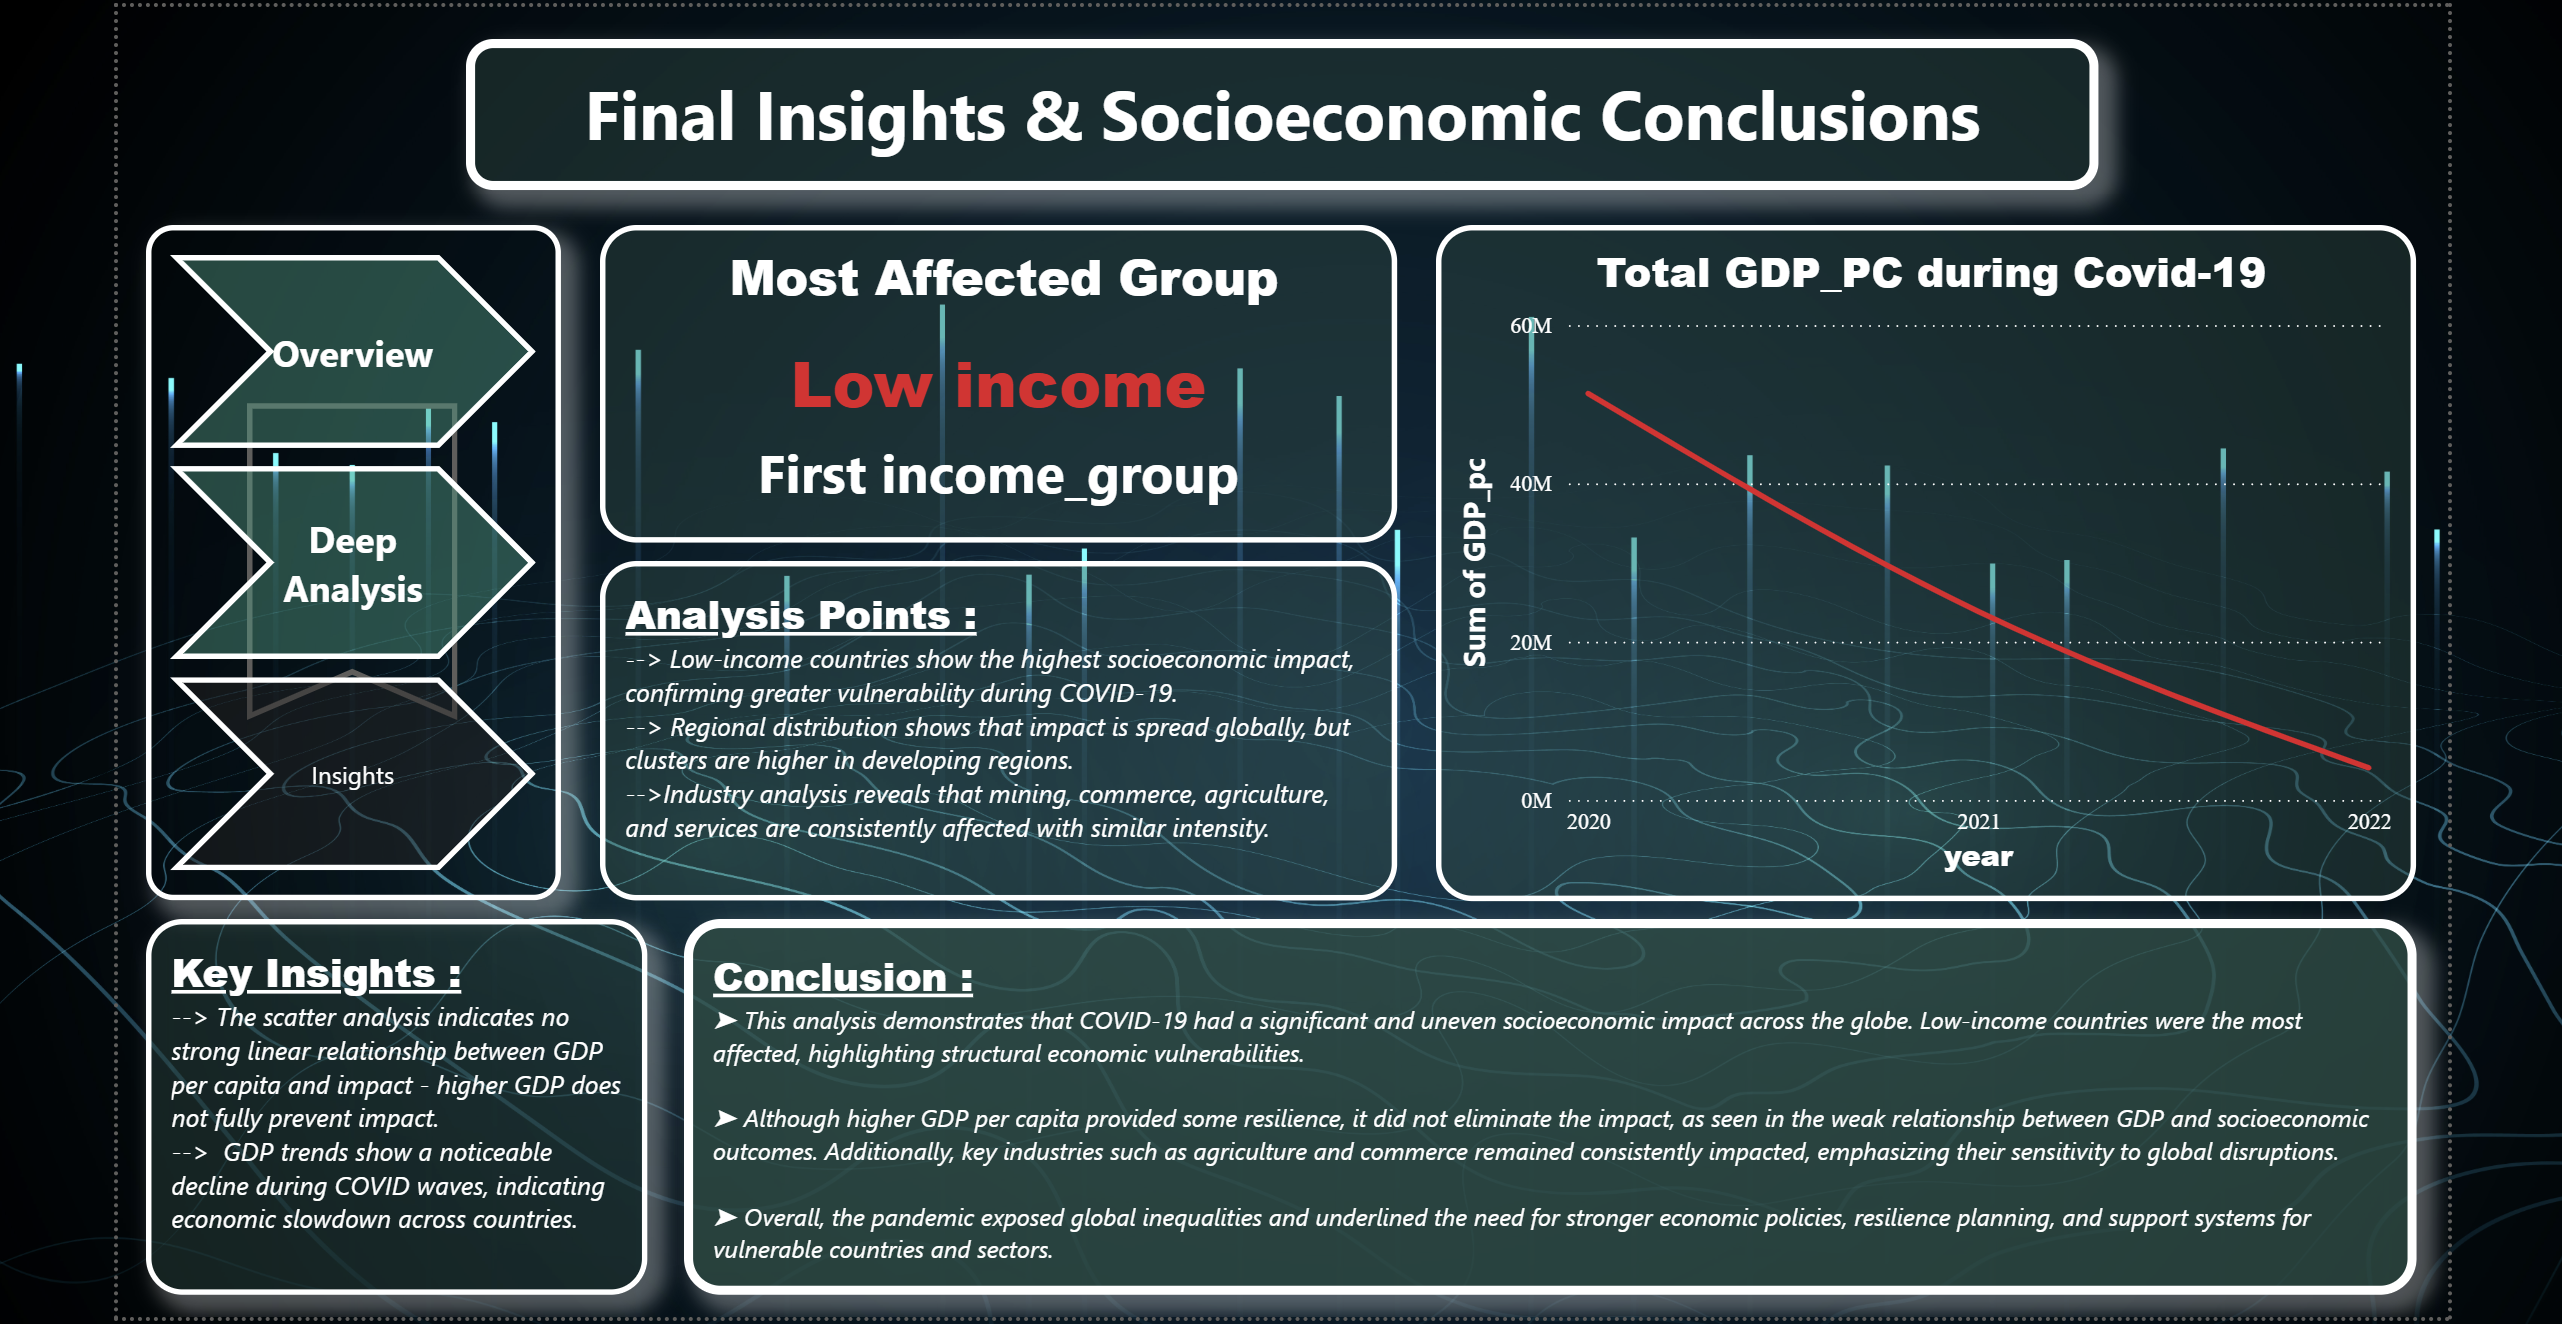

This screenshot's page, from the dashboard's own definition file:
{"tool":"powerbi","page":{"name":"Insights","canvas":[1280,720],"ordinal":2},"visuals":[{"type":"textbox","box":[191.4,17.1,897.1,82.9],"z":0},{"type":"actionButton","box":[15.6,120,227.8,371.1],"z":1000},{"type":"pageNavigator","box":[28.6,135.7,201.4,340],"z":2000},{"type":"lineChart","title":"Total GDP_PC during Covid-19","fields":{"Category":["Sheet1.year"],"Y":["Sum(Sheet1.GDP_pc)"]},"box":[724.3,120,538.6,371.4],"z":3000},{"type":"card","title":"Most Affected Group","fields":{"Values":["Min(Sheet1.income_group)"]},"box":[264.4,120,437.8,174.4],"z":4000},{"type":"textbox","box":[264.4,304.4,437.8,186.7],"z":5000},{"type":"textbox","box":[15.6,501.1,275.6,206.7],"z":6000},{"type":"textbox","box":[311.1,501.1,952.2,206.7],"z":7000}]}

Visuals, with their boxes in screenshot pixels (x1, y1, x2, y2):
textbox: [466,31,2090,181]
actionButton: [148,217,560,889]
pageNavigator: [172,246,536,861]
"Total GDP_PC during Covid-19" lineChart: [1431,217,2405,889]
"Most Affected Group" card: [598,217,1391,533]
textbox: [598,551,1391,889]
textbox: [148,907,647,1281]
textbox: [683,907,2406,1281]
